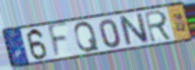0: (97, 16, 123, 49)
6: (25, 27, 49, 61)
F: (46, 20, 70, 60)
N: (117, 12, 151, 48)
Q: (73, 20, 101, 54)
R: (143, 9, 174, 44)
